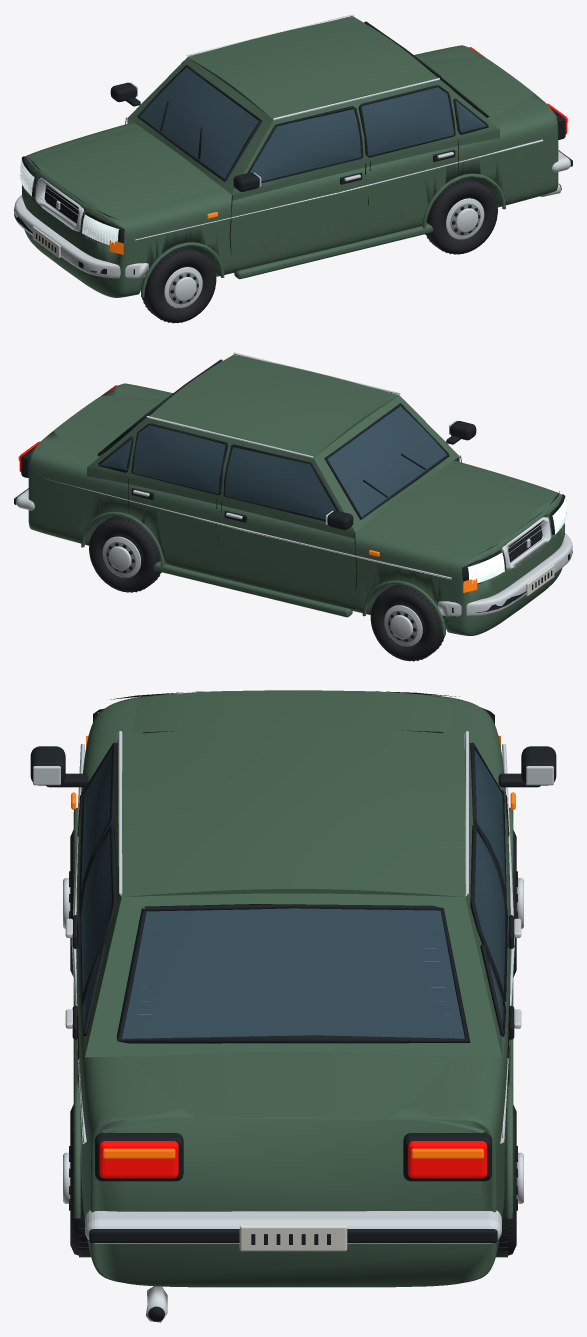
Rendered from pyaterka.glb.
3 renders of one model, top to bottom at view 1: azimuth 30°, elevation 25°; view 2: azimuth 150°, elevation 25°; view 3: azimuth 270°, elevation 25°, orthographic. The views are drawn at different scales.
Parts seen in each view (by area): view 1: Body_Paint_pyaterka, Body_Curved smoked glass.003, Body_Black trim.003, Wheel_FR_Tyre.003, Wheel_RR_Tyre.003, Body_Machined aluminium.003, StockBumpers_Machined aluminium.003, StockSkirts_Paint_pyaterka, StockFenders_Paint_pyaterka, Body_Prismatic headlight glass.003, Wheel_RR_Machined aluminium.003, Wheel_FR_Machined aluminium.003; view 2: Body_Paint_pyaterka, Body_Curved smoked glass.003, Body_Black trim.003, Wheel_FL_Tyre.003, Wheel_RL_Tyre.003, Body_Machined aluminium.003, StockBumpers_Machined aluminium.003, StockSkirts_Paint_pyaterka, StockFenders_Paint_pyaterka, Body_Prismatic headlight glass.003, Wheel_RL_Machined aluminium.003, Wheel_FL_Machined aluminium.003; view 3: Body_Paint_pyaterka, Body_Curved smoked glass.003, Body_Black trim.003, StockBumpers_Machined aluminium.003, Body_Machined aluminium.003, Body_Red lens.003, StockBumpers_Black trim.003, StockFenders_Paint_pyaterka, Body_Numberplate.003, Body_Amber lens.003, Wheel_RR_Tyre.003, Wheel_RL_Tyre.003.
Boxes of the visible parts, x1,y1,x2,y2 form: Body_Paint_pyaterka: [22, 16, 558, 297]; Body_Curved smoked glass.003: [140, 67, 485, 181]; Body_Black trim.003: [22, 21, 565, 252]; Wheel_FR_Tyre.003: [141, 246, 216, 322]; Wheel_RR_Tyre.003: [426, 177, 497, 254]; Body_Machined aluminium.003: [35, 14, 560, 240]; StockBumpers_Machined aluminium.003: [14, 151, 570, 278]; StockSkirts_Paint_pyaterka: [234, 223, 433, 279]; StockFenders_Paint_pyaterka: [141, 173, 505, 297]; Body_Prismatic headlight glass.003: [20, 158, 119, 245]; Wheel_RR_Machined aluminium.003: [445, 198, 484, 239]; Wheel_FR_Machined aluminium.003: [164, 267, 202, 308]; Body_Paint_pyaterka: [28, 355, 564, 635]; Body_Curved smoked glass.003: [100, 405, 446, 518]; Body_Black trim.003: [21, 359, 565, 589]; Wheel_FL_Tyre.003: [370, 584, 445, 660]; Wheel_RL_Tyre.003: [89, 516, 160, 592]; Body_Machined aluminium.003: [48, 352, 551, 579]; StockBumpers_Machined aluminium.003: [16, 489, 572, 616]; StockSkirts_Paint_pyaterka: [153, 561, 352, 617]; StockFenders_Paint_pyaterka: [81, 511, 445, 635]; Body_Prismatic headlight glass.003: [467, 496, 566, 583]; Wheel_RL_Machined aluminium.003: [102, 536, 140, 577]; Wheel_FL_Machined aluminium.003: [384, 605, 422, 646]; Body_Paint_pyaterka: [76, 690, 510, 1287]; Body_Curved smoked glass.003: [81, 749, 505, 1038]; Body_Black trim.003: [30, 691, 556, 1321]; StockBumpers_Machined aluminium.003: [85, 1210, 501, 1243]; Body_Machined aluminium.003: [33, 731, 553, 1322]; Body_Red lens.003: [99, 1141, 487, 1178]; StockBumpers_Black trim.003: [89, 1229, 497, 1242]; StockFenders_Paint_pyaterka: [73, 807, 513, 1218]; Body_Numberplate.003: [239, 1225, 347, 1251]; Body_Amber lens.003: [71, 735, 515, 1158]; Wheel_RR_Tyre.003: [70, 1104, 90, 1256]; Wheel_RL_Tyre.003: [496, 1105, 516, 1256].
Bounding box in the file's own units: 4.14 × 1.45 × 1.96.
